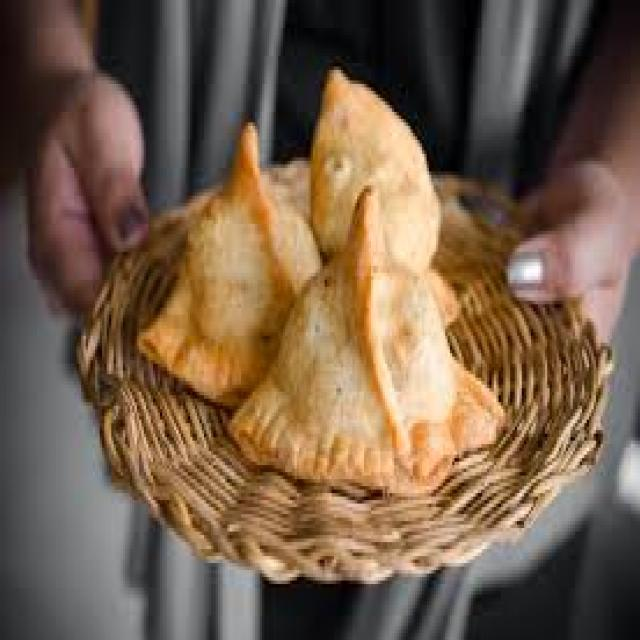SAMOSA: (232, 185, 503, 480), (134, 126, 330, 402), (311, 70, 437, 268)
